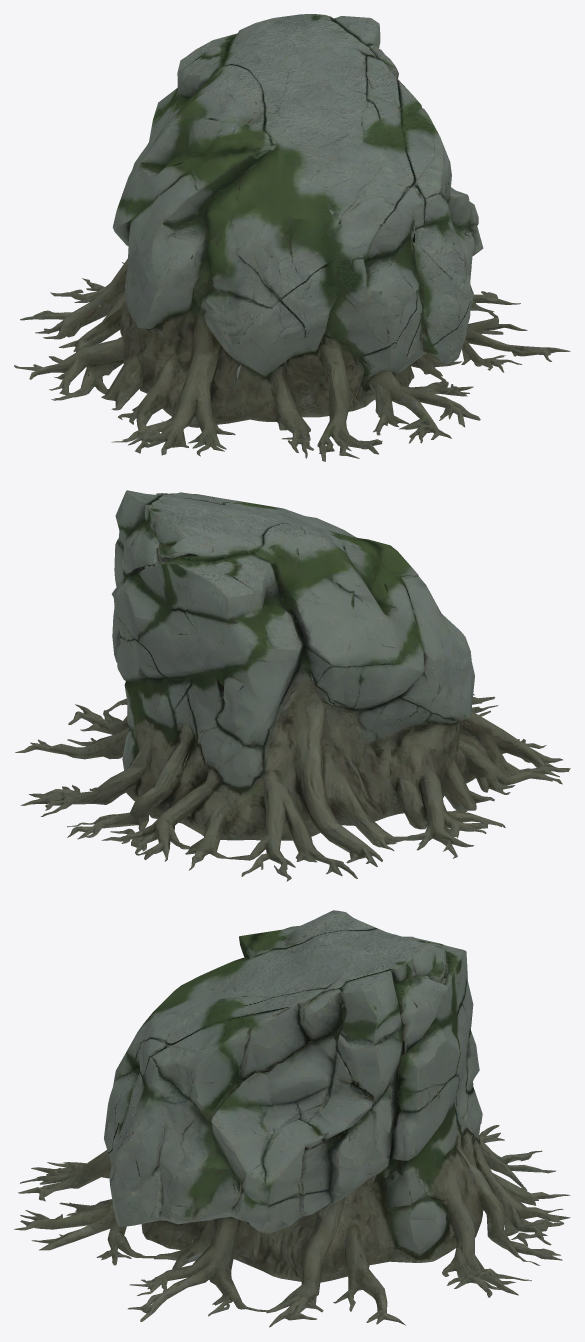
The model's file is forest-rock-lod.glb.
The picture shows the model from 3 angles, top to bottom: view 1: azimuth 30°, elevation 25°; view 2: azimuth 150°, elevation 25°; view 3: azimuth 270°, elevation 25°; orthographic projection. The views are drawn at different scales.
Visible parts, largest first — view 1: forest-rock-Mesh_0.023; view 2: forest-rock-Mesh_0.023; view 3: forest-rock-Mesh_0.023.
Boxes of the visible parts, bbox=[...] form: forest-rock-Mesh_0.023: bbox=[14, 14, 570, 461]; forest-rock-Mesh_0.023: bbox=[15, 490, 570, 881]; forest-rock-Mesh_0.023: bbox=[14, 910, 570, 1327].
Size of the model in its own units: 3.16 by 1.86 by 3.2.
1 material, 1 textured.
